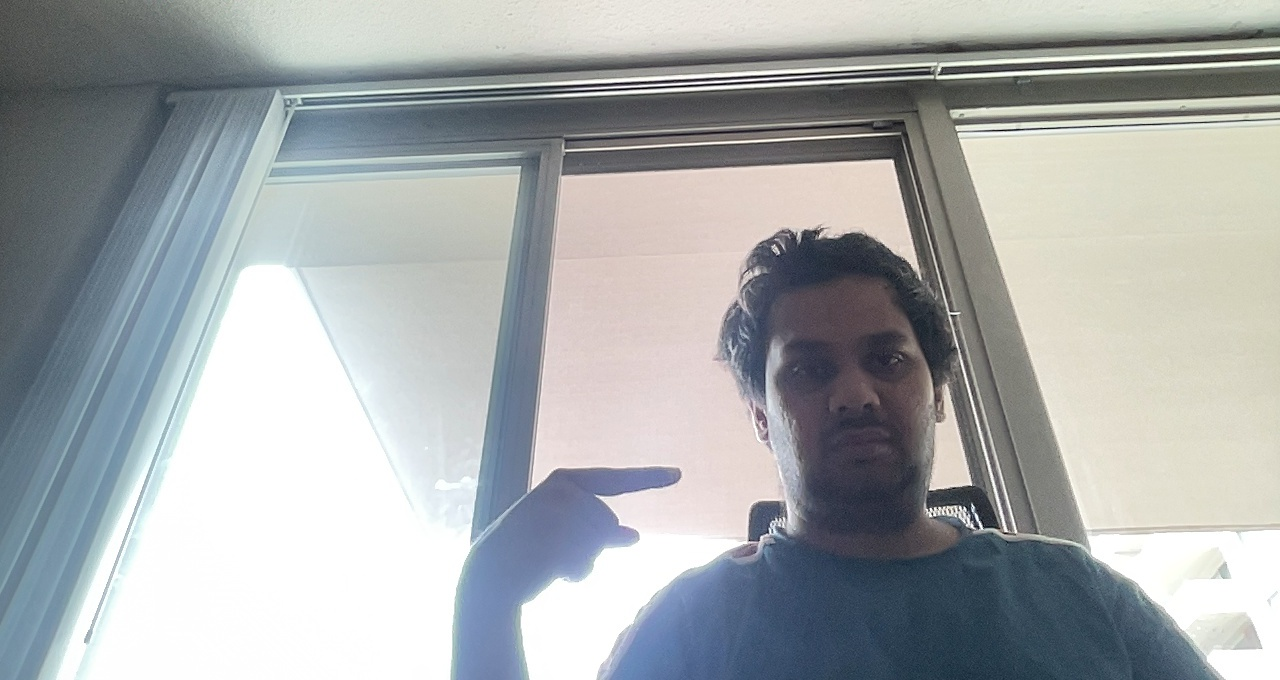fingerleft: (461, 459, 689, 599)
